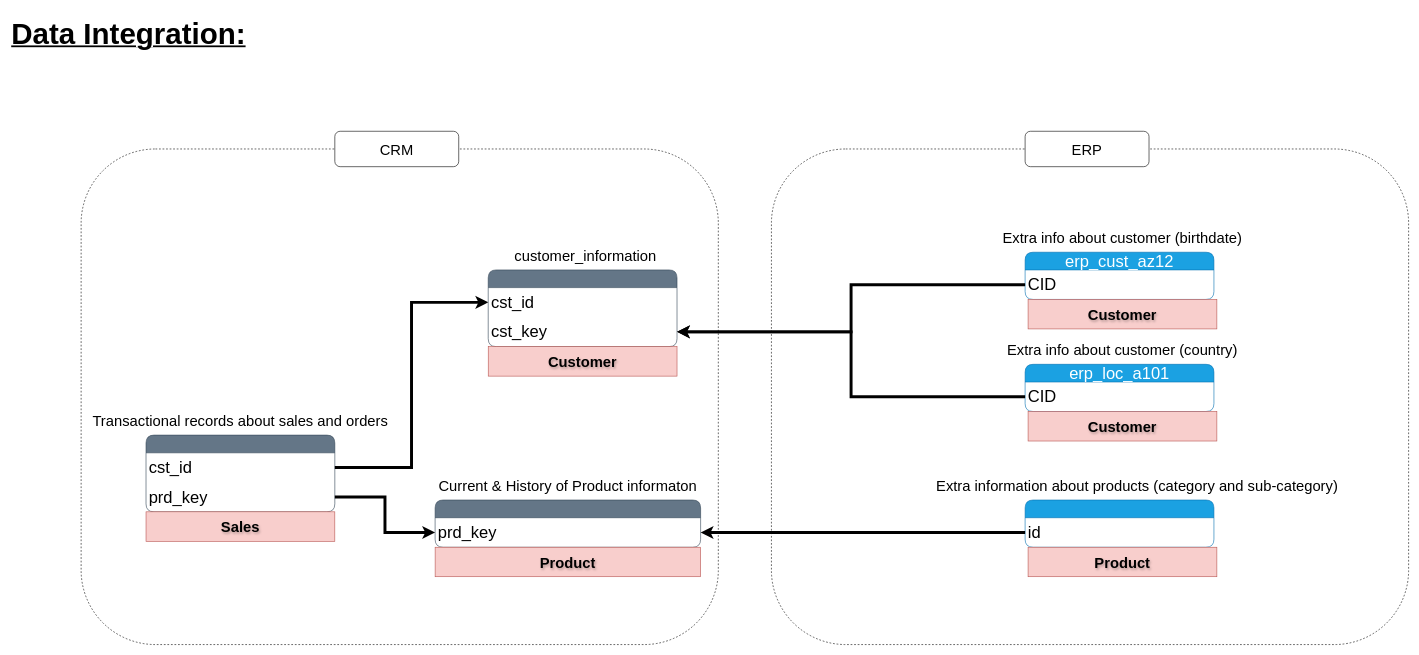
This 1419x655 diagram has some shape labels left out. Each missing label, with the box of its shape:
crm_cst_info: (488, 269, 677, 347)
crm_prd_info: (435, 499, 701, 547)
crm_sales_details: (145, 435, 335, 512)
erp_px_cat_g1v2: (1025, 499, 1214, 547)
